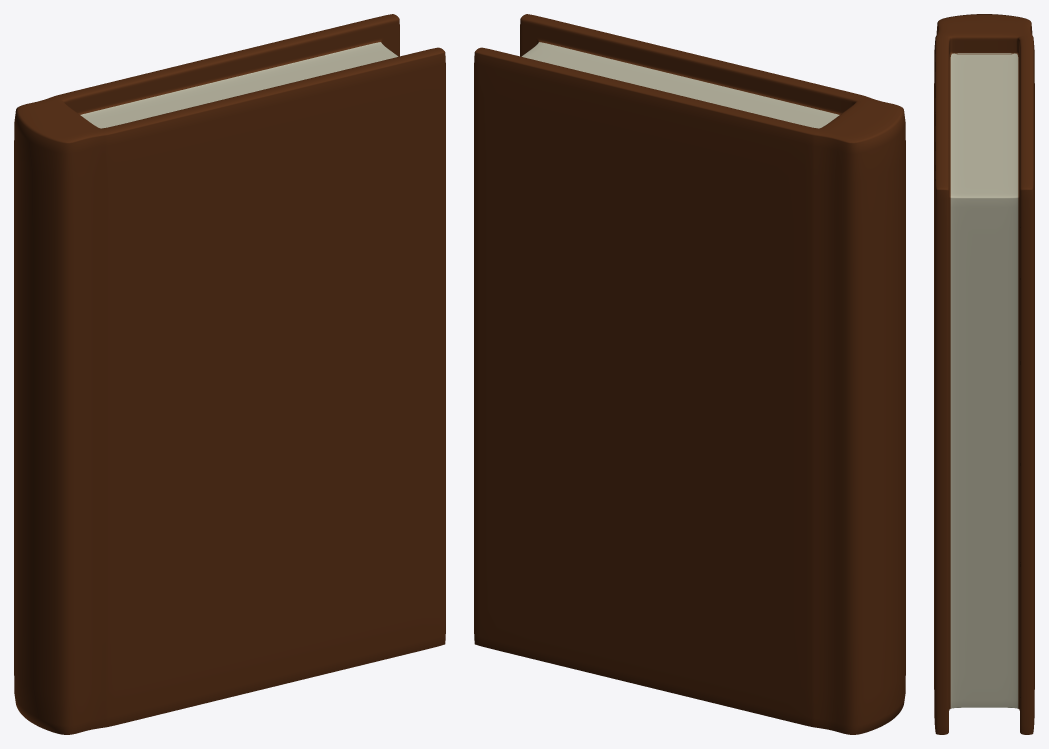
File: BOOK.fbx
3 views of the same model, side by side, from view 1: azimuth 30°, elevation 25°; view 2: azimuth 150°, elevation 25°; view 3: azimuth 270°, elevation 25° (orthographic). The views are drawn at different scales.
Visible parts, largest first — view 1: Book; view 2: Book; view 3: Book.
Part boxes in pixels (x1,y1,x2,y2): Book: (14,14,445,734); Book: (474,14,905,734); Book: (934,14,1034,734).
Bounding box in the file's own units: 6.25 × 9 × 1.5.
